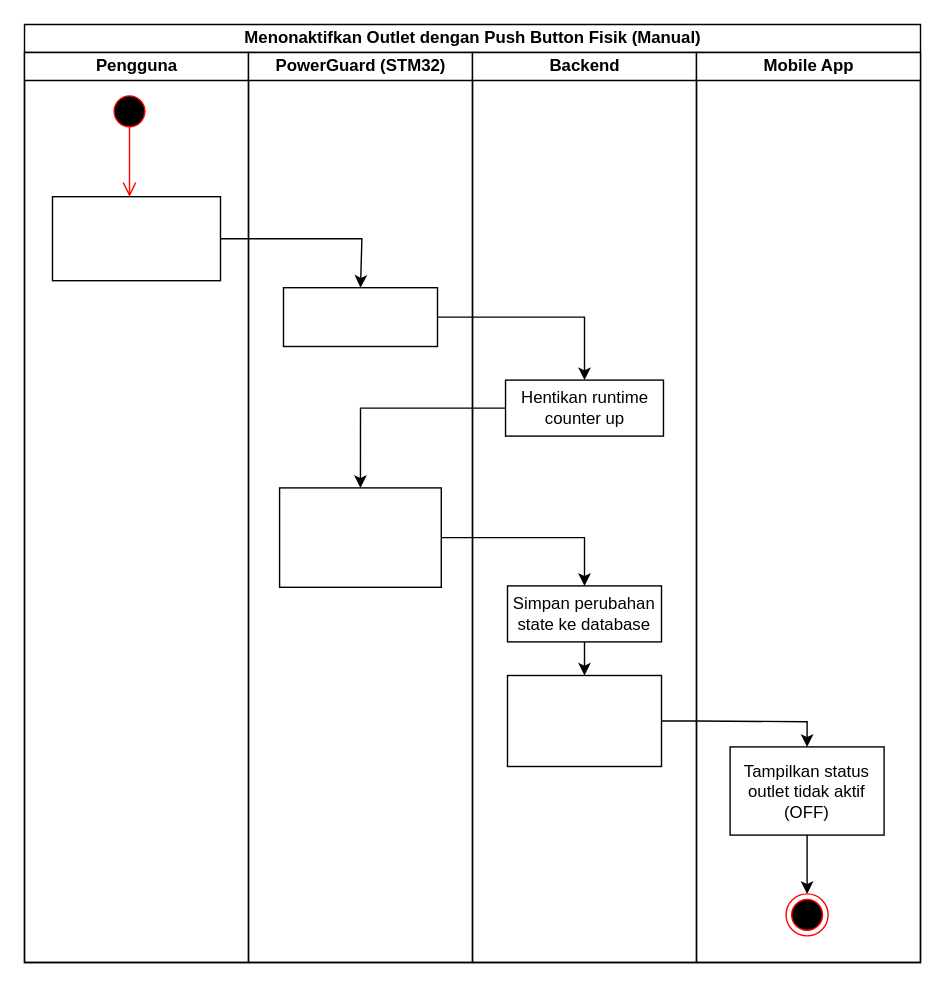
The diagram is 945 pixels wide and 987 high, and some of its shapes have lost their labels. Here are the shapes that lost their labels. From the top down, the centre of each, then its label:
At pixel 135 238: "Tekan button fisik untuk menonaktifkan outlet".
At pixel 360 316: "Ubah state Outlet dari ON ke OFF".
At pixel 359 536: "Kirim data (Outlet OFF) ke Backend".
At pixel 584 720: "Kirim update status outlet ke aplikasi".
